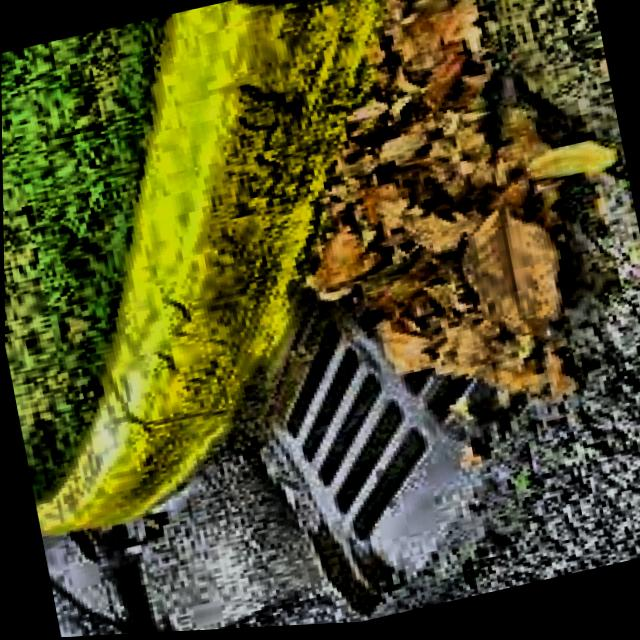clogged_drains: (273, 111, 559, 580)
